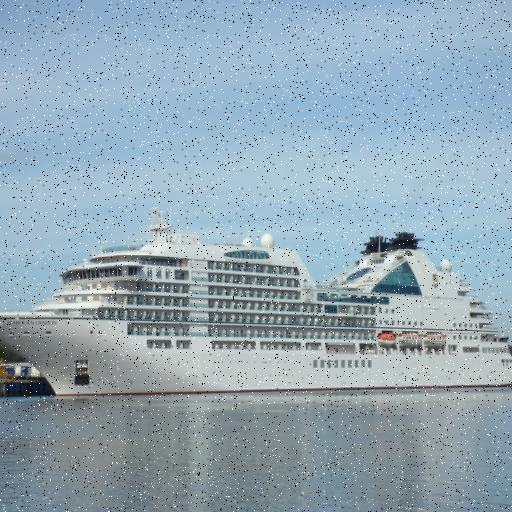cruises: (1, 204, 512, 396)
